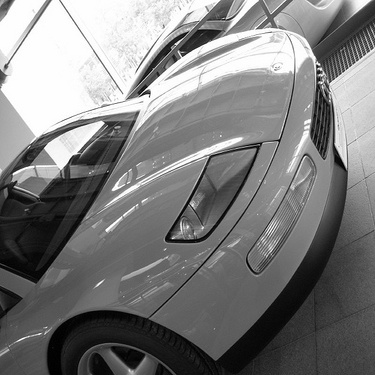car: (1, 3, 372, 372), (116, 2, 346, 115)
